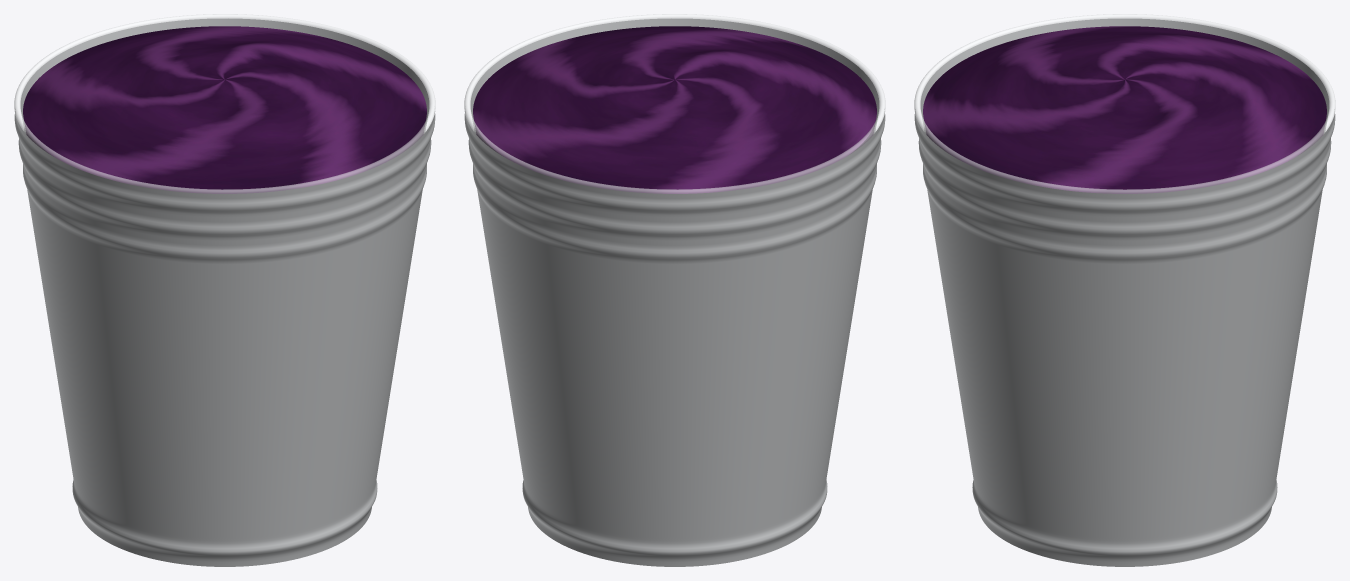
Rendered from acai-pet-300.glb.
The picture shows the model from 3 angles, left to right: view 1: azimuth 30°, elevation 25°; view 2: azimuth 150°, elevation 25°; view 3: azimuth 270°, elevation 25°; orthographic projection.
Parts seen in each view (by area): view 1: acai-pet-300_1, acai-pet-300_0; view 2: acai-pet-300_1, acai-pet-300_0; view 3: acai-pet-300_1, acai-pet-300_0.
Part boxes in pixels (x1,y1,x2,y2): acai-pet-300_1: (14,14,435,566); acai-pet-300_0: (23,26,426,193); acai-pet-300_1: (464,14,885,566); acai-pet-300_0: (473,26,876,193); acai-pet-300_1: (914,14,1335,566); acai-pet-300_0: (923,26,1326,193).
Bounding box in the file's own units: 0.086 × 0.0957 × 0.086.
4 materials, 2 textured.
